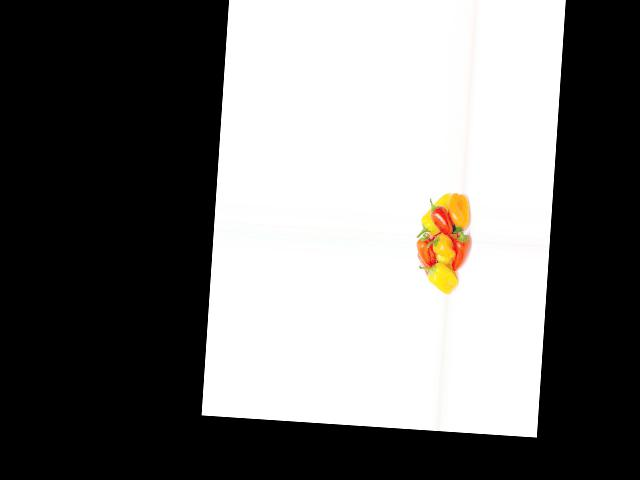bell_pepper: (417, 191, 451, 236)
